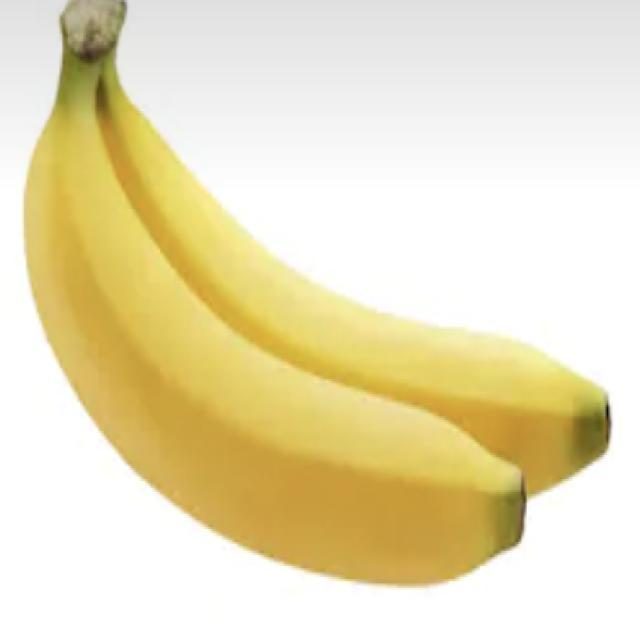Banana: (22, 0, 612, 587)
